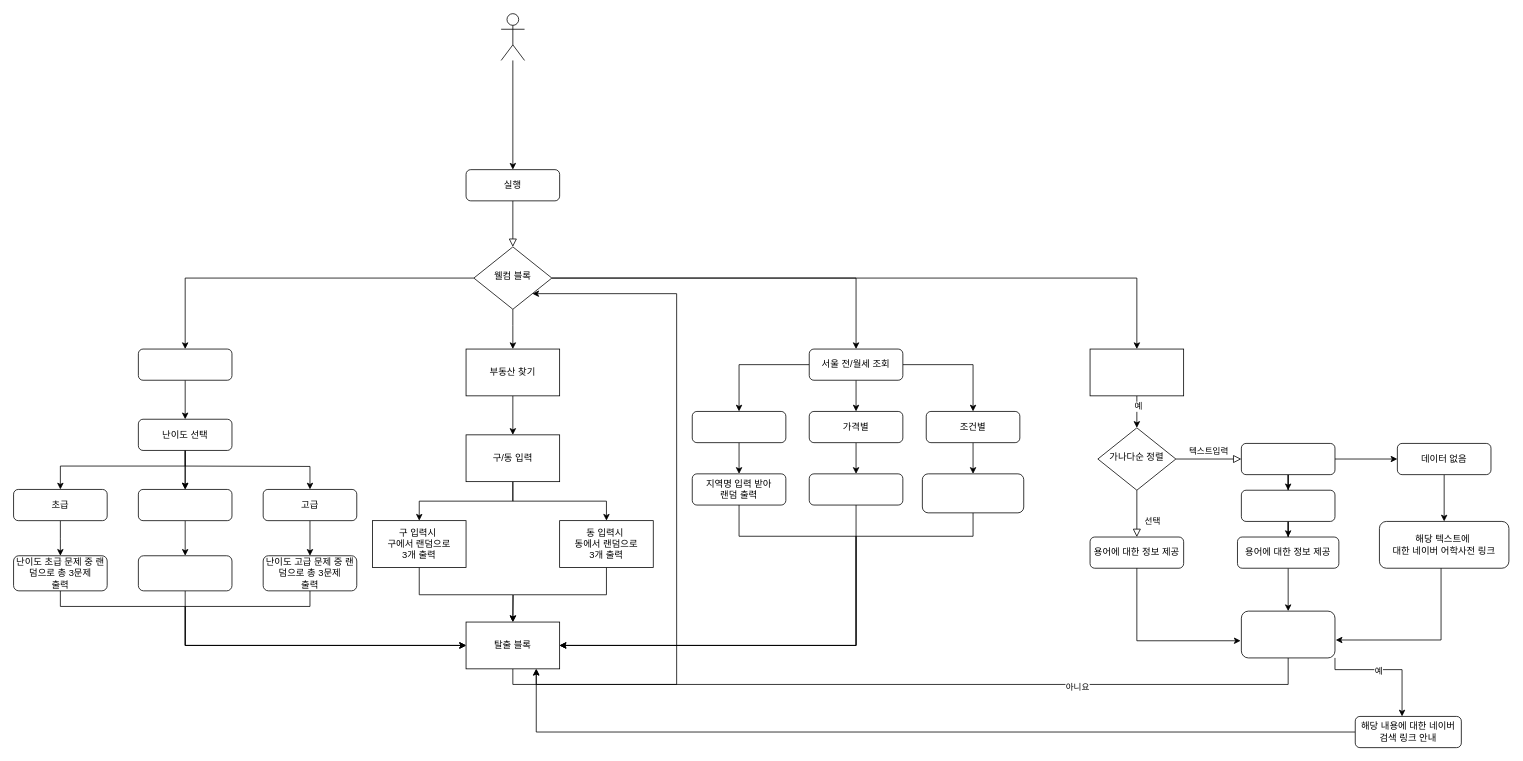
The diagram is 1523 pixels wide and 761 high, and some of its shapes have lost their labels. The shapes that lost their labels are listed below. From the top down, each one's centre as x and y in pixels, then its label:
(512,36): 사용자
(185,364): 퀴즈 풀기
(1136,372): 부동산 용어 찾기
(738,427): 지역별
(1288,459): 데이터베이스 확인
(185,505): 중급
(855,489): 가격대 선택 받아 랜덤 출력
(973,493): 조건(역세권/반려동물 가능 여부 등) 선택 받아 랜덤 출력
(1288,505): 데이터 있음
(185,573): 난이도 중급 문제 중 랜덤으로 총 3문제 출력
(1288,634): 추가 설명 필요한지 여부 확인
